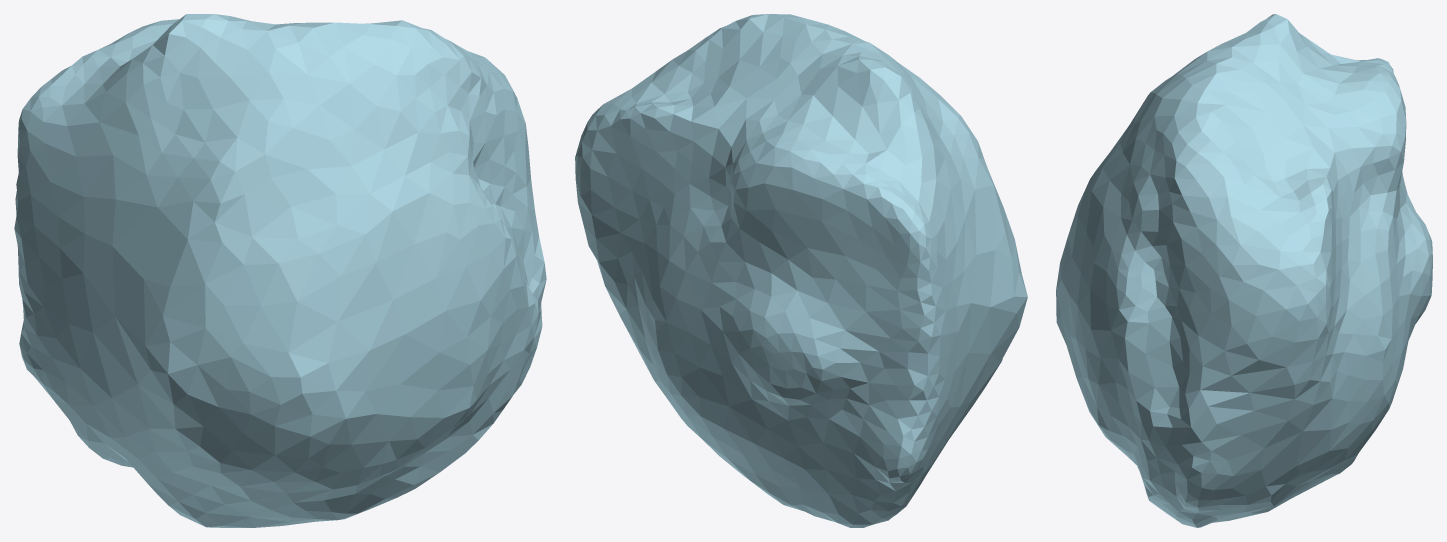
The model's file is livertumor1.obj.
3 views of the same model, side by side, from view 1: azimuth 30°, elevation 25°; view 2: azimuth 150°, elevation 25°; view 3: azimuth 270°, elevation 25° (orthographic). The views are drawn at different scales.
Visible parts, largest first — view 1: grp1; view 2: grp1; view 3: grp1.
Part boxes in pixels (bbox=[...]): grp1: bbox=[14, 14, 546, 527]; grp1: bbox=[575, 14, 1027, 527]; grp1: bbox=[1056, 14, 1432, 527].
Size of the model in its own units: 58.52 by 64.07 by 47.96.
